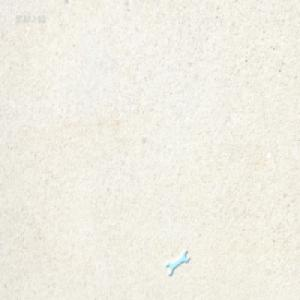Wrench: (166, 245, 190, 272)
